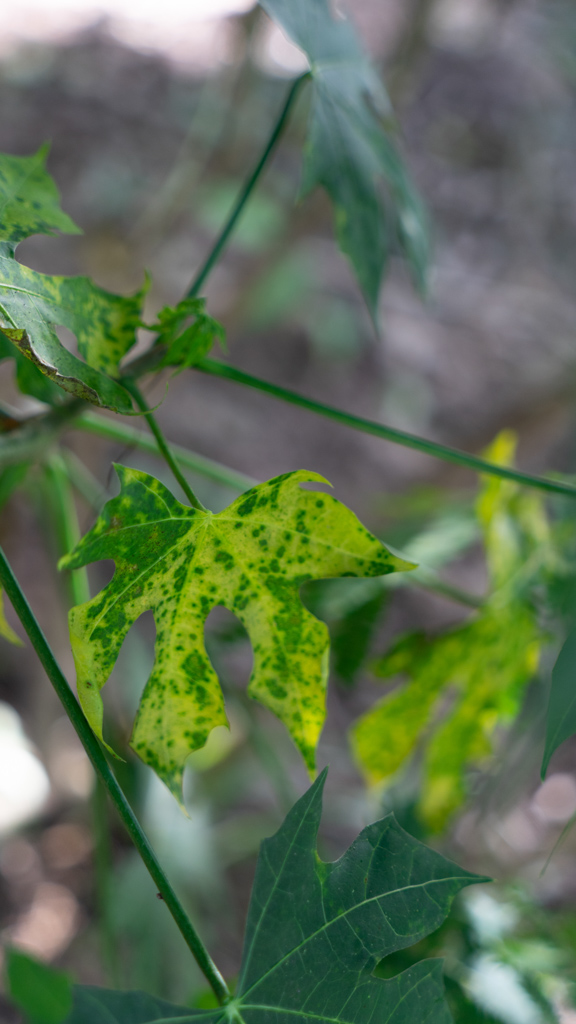Alternaria brassicicola: (70, 471, 379, 775), (365, 415, 563, 844)
